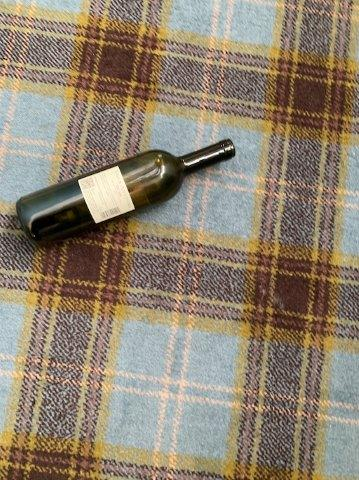botolkaca: (14, 139, 236, 242)
